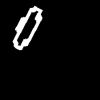chain: (13, 6, 41, 49)
